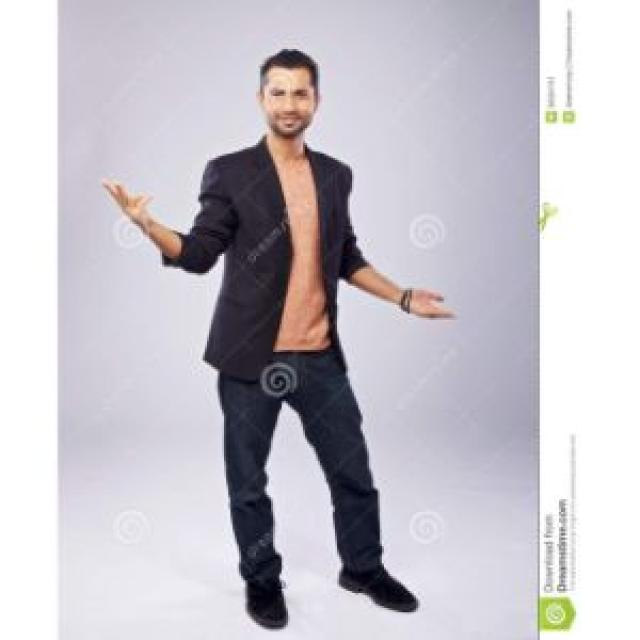adult: (90, 28, 440, 627)
